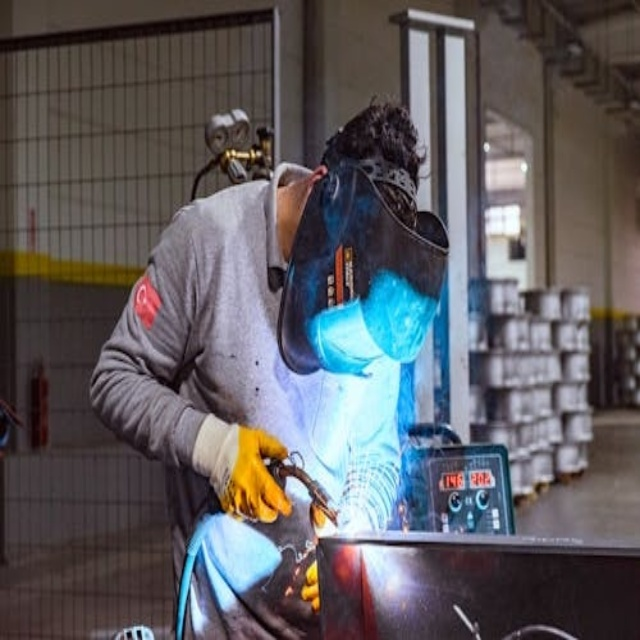Guantes: (195, 406, 294, 530), (293, 550, 320, 615)
